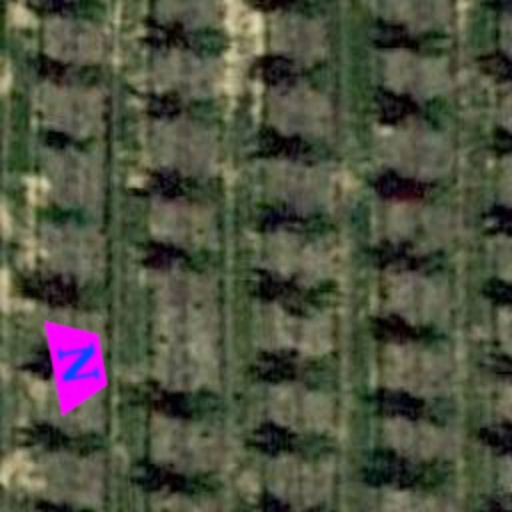trapezoid: (20, 306, 136, 422)
